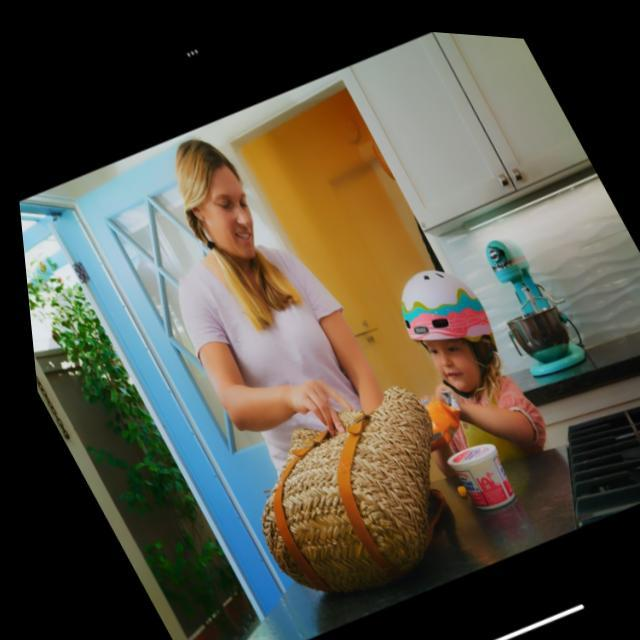Helmet: (389, 259, 503, 404)
Nonhelmet: (165, 129, 268, 278)
